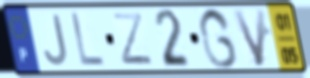2: (152, 7, 192, 71)
G: (196, 6, 240, 71)
J: (41, 12, 70, 68)
L: (69, 10, 107, 69)
V: (230, 7, 267, 69)
Z: (110, 12, 156, 68)
